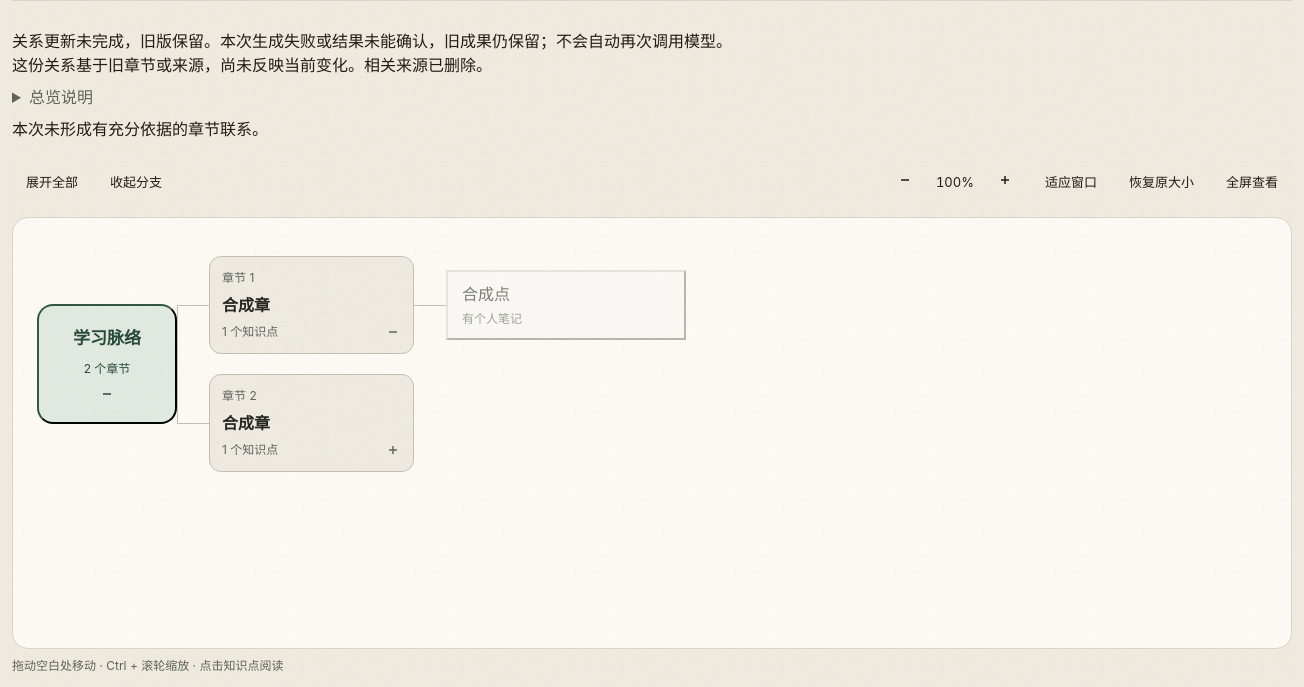
retains old overview after failure, labels stale sources and never disguises directory text as generated relations
The width and height of the screenshot is (1304, 687).
Expected: the text "旧关系说明" is not shown
Expected: the text "这份关系基于旧章节或来源，尚未反映当前变化。相关来源已删除。" is shown, [12, 55, 492, 75]
Click the heading "总览说明": x=61, y=97 [29, 87, 93, 107]
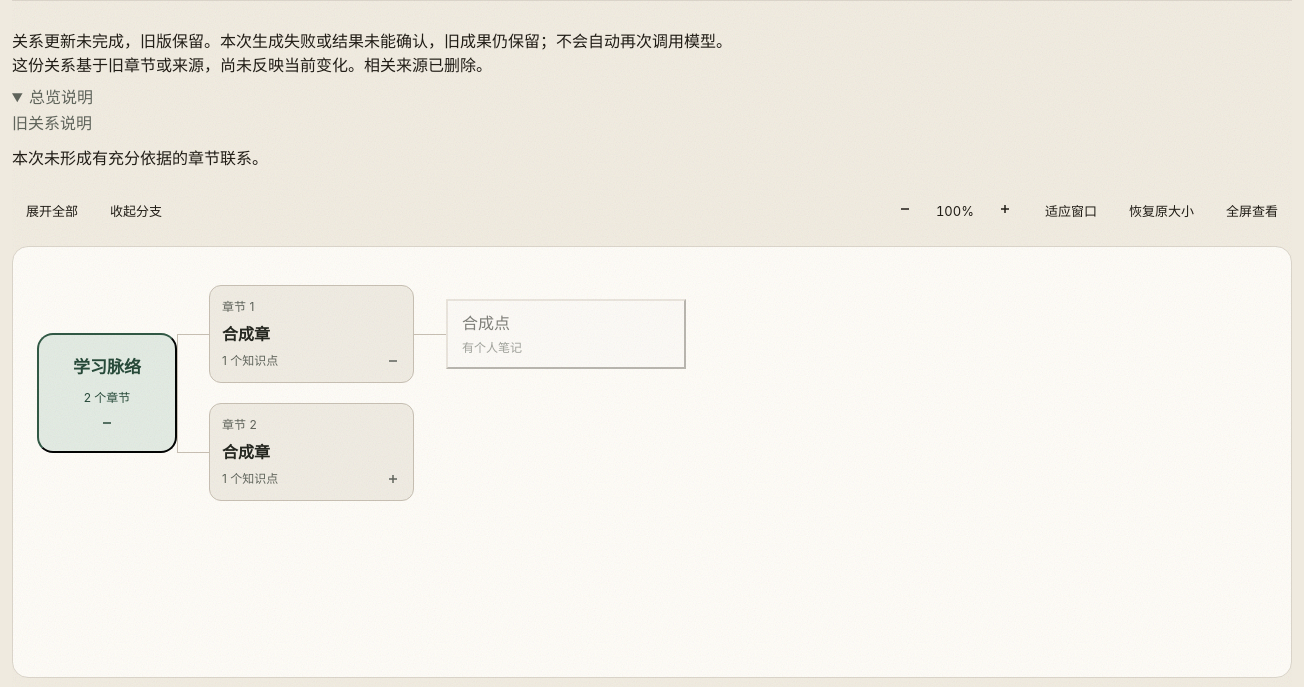
Now the text "旧关系说明" is shown, box [12, 113, 92, 133]
